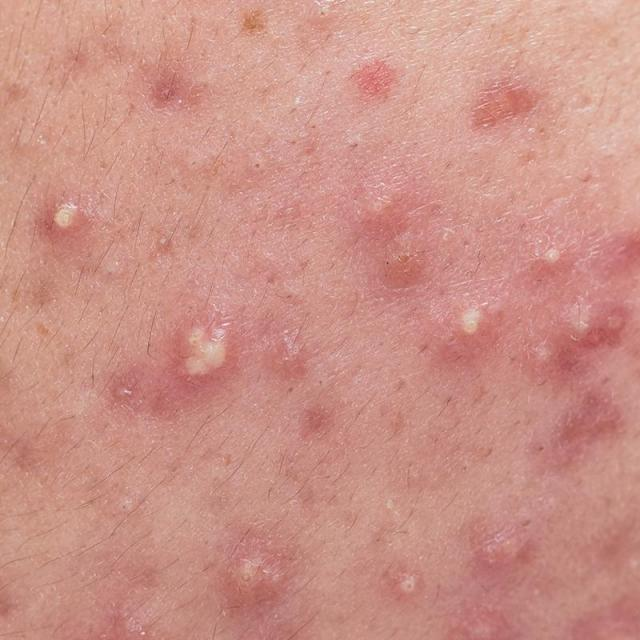9: (425, 294, 515, 359), (44, 169, 85, 259), (528, 221, 582, 287), (212, 542, 270, 600), (390, 554, 425, 612)
blackheads: (454, 70, 556, 160), (166, 289, 242, 402), (553, 290, 629, 365), (478, 520, 548, 598), (230, 143, 284, 209), (295, 358, 350, 408), (297, 0, 357, 40), (330, 125, 370, 178)
